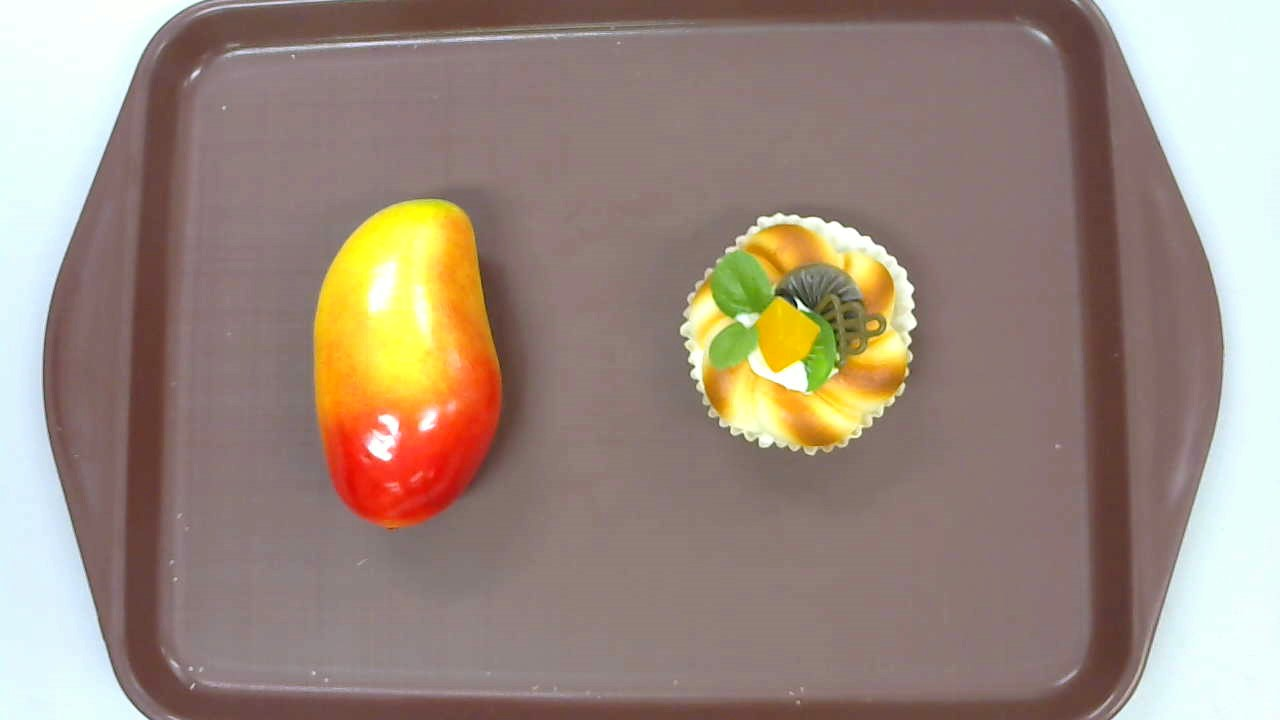fruit tart: (679, 213, 919, 458)
red mango: (311, 199, 503, 532)
